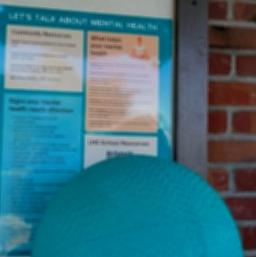algae: (30, 152, 256, 257)
